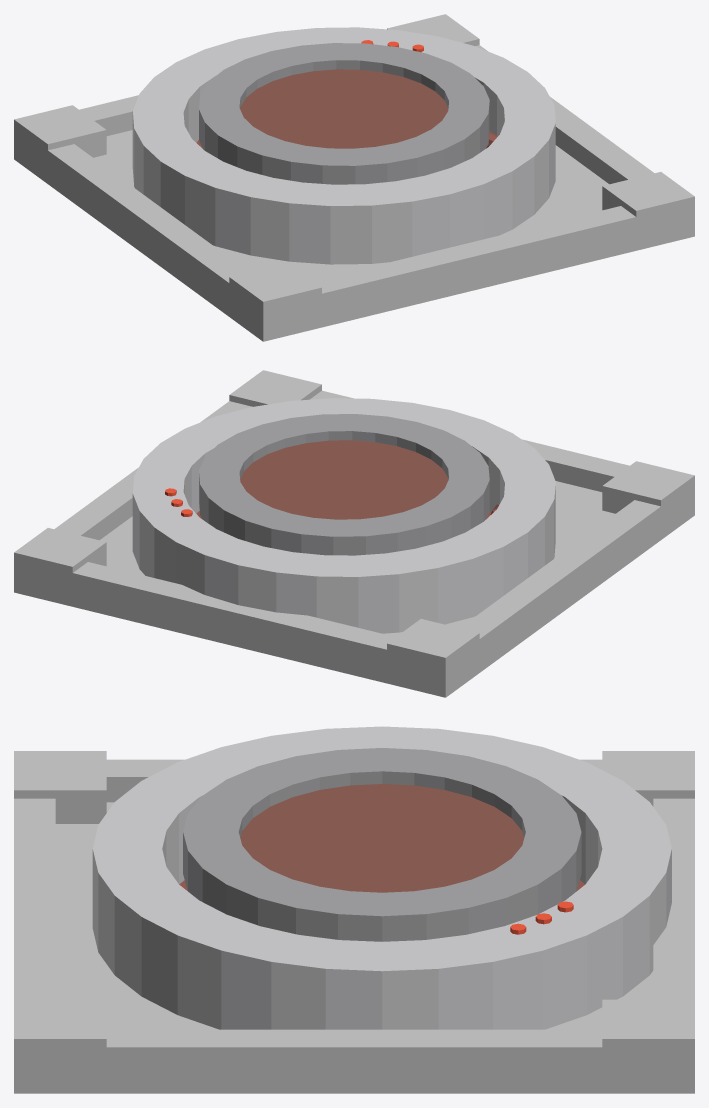
The model's file is vge_grav_engine_cooldown.obj.
3 renders of one model, top to bottom at view 1: azimuth 30°, elevation 25°; view 2: azimuth 150°, elevation 25°; view 3: azimuth 270°, elevation 25°, orthographic. The views are drawn at different scales.
Visible parts, largest first — view 1: vge_grav_engine_cooldown_14, vge_grav_engine_cooldown_15, vge_grav_engine_cooldown_1, vge_grav_engine_cooldown_0, vge_grav_engine_cooldown_16, vge_grav_engine_cooldown_3, vge_grav_engine_cooldown_5, vge_grav_engine_cooldown_6, vge_grav_engine_cooldown_4, vge_grav_engine_cooldown_7, vge_grav_engine_cooldown_2, vge_grav_engine_cooldown_8; view 2: vge_grav_engine_cooldown_14, vge_grav_engine_cooldown_15, vge_grav_engine_cooldown_2, vge_grav_engine_cooldown_0, vge_grav_engine_cooldown_16, vge_grav_engine_cooldown_3, vge_grav_engine_cooldown_6, vge_grav_engine_cooldown_5, vge_grav_engine_cooldown_8, vge_grav_engine_cooldown_4, vge_grav_engine_cooldown_1, vge_grav_engine_cooldown_7; view 3: vge_grav_engine_cooldown_14, vge_grav_engine_cooldown_15, vge_grav_engine_cooldown_4, vge_grav_engine_cooldown_0, vge_grav_engine_cooldown_16, vge_grav_engine_cooldown_1, vge_grav_engine_cooldown_2, vge_grav_engine_cooldown_5, vge_grav_engine_cooldown_8, vge_grav_engine_cooldown_7, vge_grav_engine_cooldown_6, vge_grav_engine_cooldown_3.
Part boxes in pixels (x1,y1,x2,y2): vge_grav_engine_cooldown_14: (132, 27, 555, 264); vge_grav_engine_cooldown_15: (199, 43, 489, 184); vge_grav_engine_cooldown_1: (248, 203, 694, 341); vge_grav_engine_cooldown_0: (14, 130, 694, 341); vge_grav_engine_cooldown_16: (240, 69, 448, 148); vge_grav_engine_cooldown_3: (29, 137, 248, 329); vge_grav_engine_cooldown_5: (229, 263, 321, 341); vge_grav_engine_cooldown_6: (14, 105, 106, 181); vge_grav_engine_cooldown_4: (475, 45, 654, 184); vge_grav_engine_cooldown_7: (602, 172, 694, 247); vge_grav_engine_cooldown_2: (14, 95, 138, 165); vge_grav_engine_cooldown_8: (387, 14, 479, 45); vge_grav_engine_cooldown_14: (132, 398, 555, 633); vge_grav_engine_cooldown_15: (199, 414, 489, 555); vge_grav_engine_cooldown_2: (14, 559, 460, 697); vge_grav_engine_cooldown_0: (14, 481, 694, 697); vge_grav_engine_cooldown_16: (240, 440, 448, 519); vge_grav_engine_cooldown_3: (460, 500, 662, 668); vge_grav_engine_cooldown_6: (387, 619, 479, 696); vge_grav_engine_cooldown_5: (602, 461, 694, 524); vge_grav_engine_cooldown_8: (14, 528, 106, 602); vge_grav_engine_cooldown_4: (54, 401, 252, 540); vge_grav_engine_cooldown_1: (310, 390, 694, 509); vge_grav_engine_cooldown_7: (229, 370, 321, 406); vge_grav_engine_cooldown_14: (92, 726, 671, 1029); vge_grav_engine_cooldown_15: (183, 748, 581, 941); vge_grav_engine_cooldown_4: (55, 1029, 653, 1093); vge_grav_engine_cooldown_0: (14, 802, 694, 1093); vge_grav_engine_cooldown_16: (240, 784, 524, 892); vge_grav_engine_cooldown_1: (14, 798, 55, 1093); vge_grav_engine_cooldown_2: (653, 798, 694, 1093); vge_grav_engine_cooldown_5: (14, 751, 106, 823); vge_grav_engine_cooldown_8: (602, 999, 694, 1092); vge_grav_engine_cooldown_7: (14, 999, 106, 1092); vge_grav_engine_cooldown_6: (602, 751, 694, 806); vge_grav_engine_cooldown_3: (106, 759, 602, 802).
Size of the model in its own units: 2.94 by 0.56 by 2.94.
